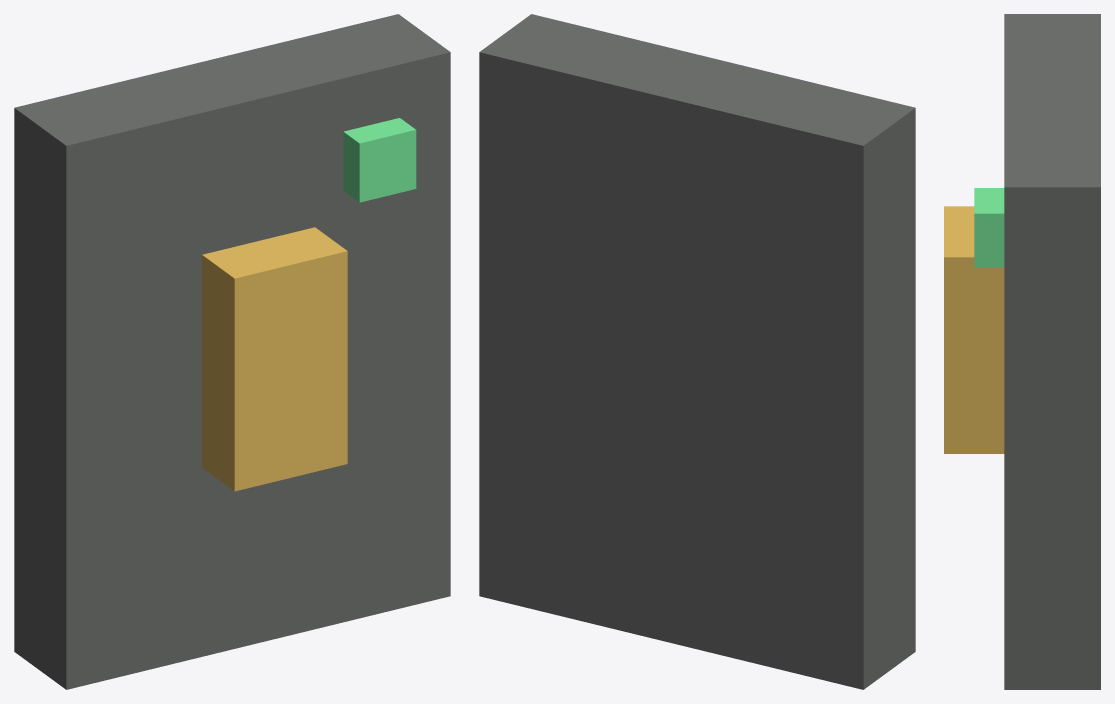
File: power_switch.glb
3 renders of one model, left to right at view 1: azimuth 30°, elevation 25°; view 2: azimuth 150°, elevation 25°; view 3: azimuth 270°, elevation 25°, orthographic. The views are drawn at different scales.
Visible parts, largest first — view 1: PowerPanel, PowerLever, PowerLamp; view 2: PowerPanel; view 3: PowerPanel, PowerLever, PowerLamp.
Boxes of the visible parts, box(x1,y1,x2,y2) form: PowerPanel: box(14, 14, 450, 689); PowerLever: box(202, 227, 347, 491); PowerLamp: box(343, 118, 416, 202); PowerPanel: box(479, 14, 915, 689); PowerPanel: box(1004, 14, 1100, 689); PowerLever: box(944, 206, 1004, 453); PowerLamp: box(974, 188, 1004, 267).
Bounding box in the file's own units: 0.34 × 0.46 × 0.13.
